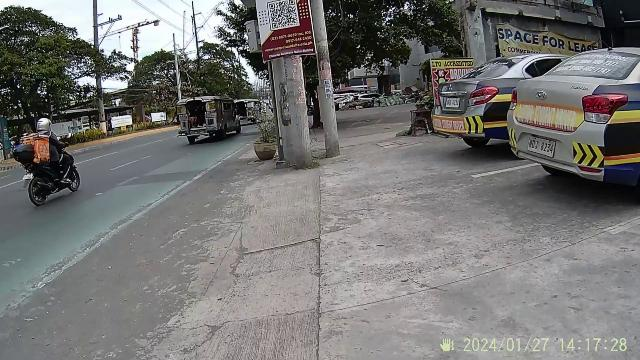motorcycle: (16, 112, 82, 210)
potted_plant: (251, 100, 277, 160)
utility_post: (270, 57, 310, 168), (318, 20, 340, 158)
